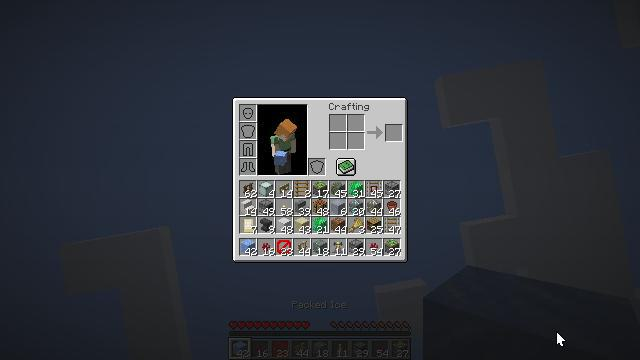cursor: (556, 331, 566, 347)
